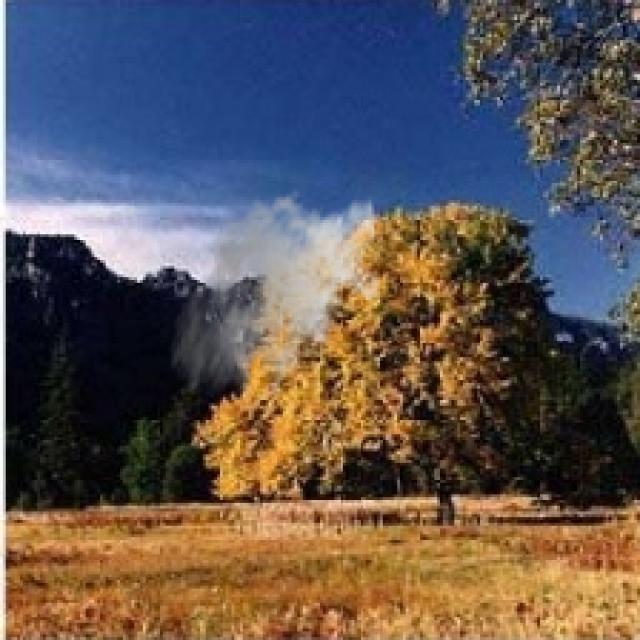smoke: (168, 186, 383, 414)
